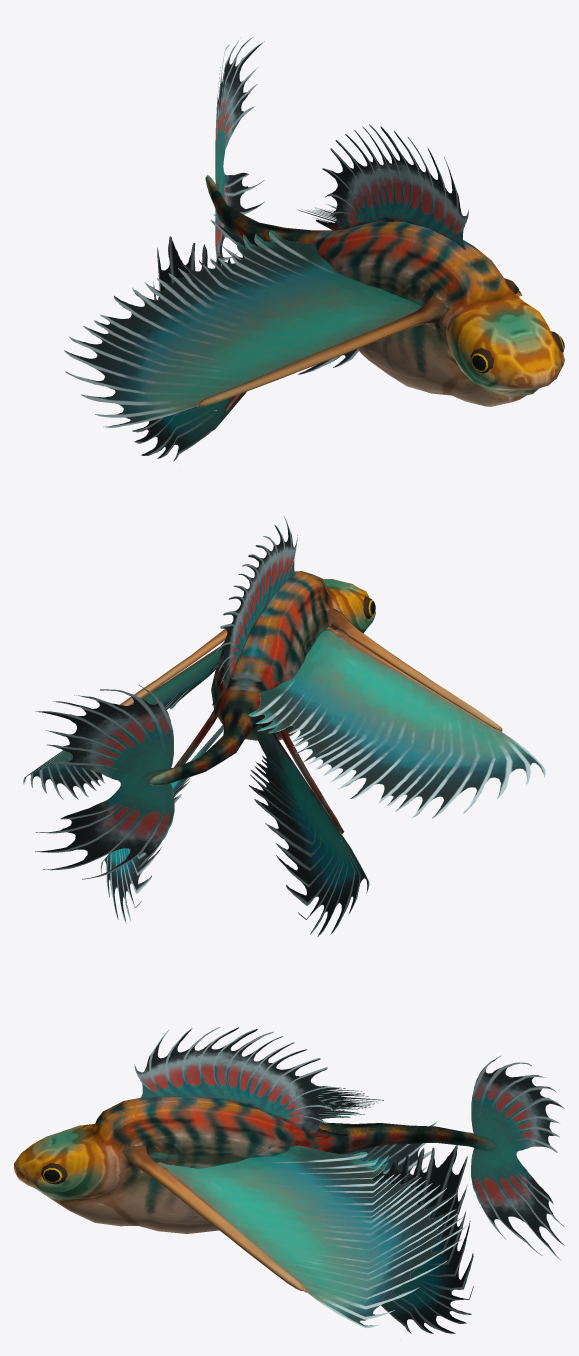
Rendered from fish_000043.obj.
The picture shows the model from 3 angles, top to bottom: view 1: azimuth 30°, elevation 25°; view 2: azimuth 150°, elevation 25°; view 3: azimuth 270°, elevation 25°; orthographic projection. The views are drawn at different scales.
Parts seen in each view (by area): view 1: flyingFish_low_StingrayPBS1_0; view 2: flyingFish_low_StingrayPBS1_0; view 3: flyingFish_low_StingrayPBS1_0.
Part boxes in pixels (box(x1,y1,x2,y2)): flyingFish_low_StingrayPBS1_0: box(64, 37, 564, 461); flyingFish_low_StingrayPBS1_0: box(23, 516, 545, 936); flyingFish_low_StingrayPBS1_0: box(14, 1027, 564, 1333).
Bounding box in the file's own units: 17.44 × 12.41 × 18.67.
1 material, 1 textured.
